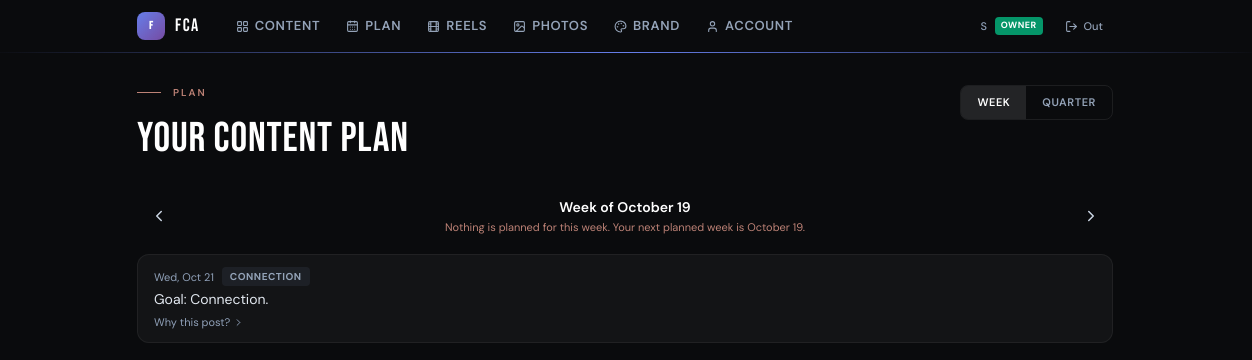
it: Calendar page: the landed week is remembered through real loads › once today reaches the landed week (server today rolls forward), A disappears on reload
The width and height of the screenshot is (1252, 360).
Expected: the text with test id "next-planned-week" is shown, [445, 219, 805, 236]
Click the button named "Next week": (1091, 216) [1069, 194, 1113, 238]
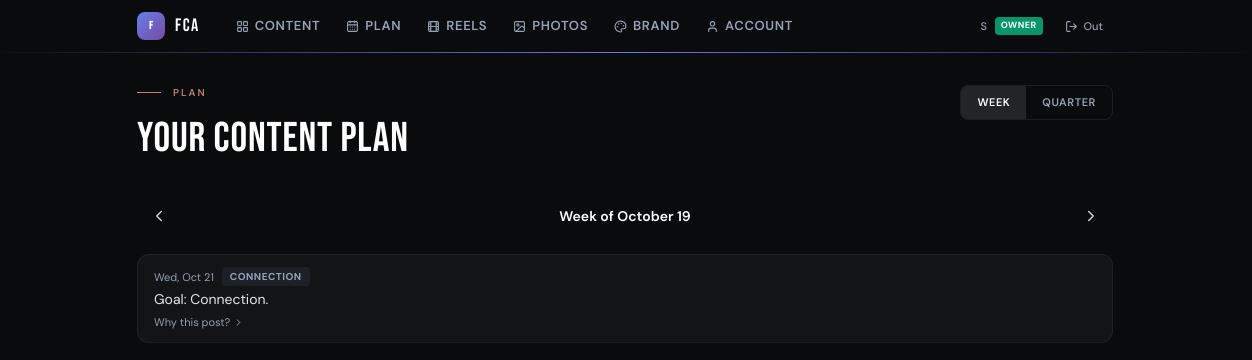
Now the text with test id "next-planned-week" is gone
